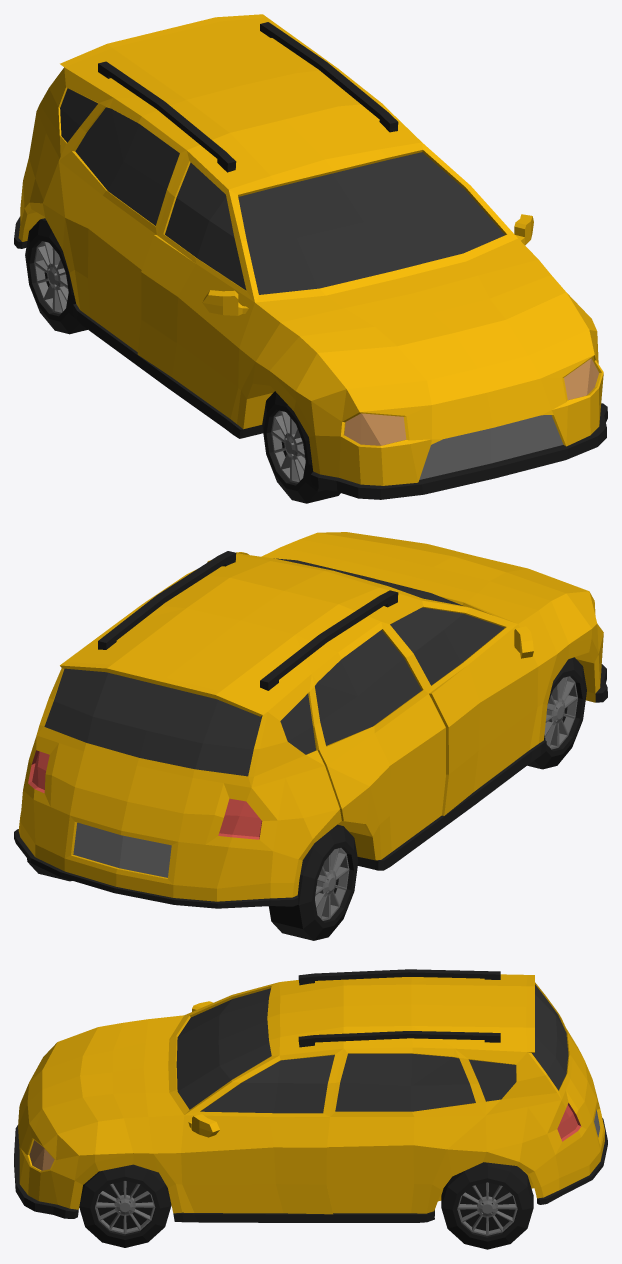
File: suv-amber.glb
3 views of the same model, one above another, from view 1: azimuth 30°, elevation 25°; view 2: azimuth 150°, elevation 25°; view 3: azimuth 270°, elevation 25° (orthographic). The views are drawn at different scales.
Visible parts, largest first — view 1: SUV_Cube; view 2: SUV_Cube; view 3: SUV_Cube.
Boxes of the visible parts, x1,y1,x2,y2 form: SUV_Cube: (14, 14, 607, 503); SUV_Cube: (14, 532, 607, 940); SUV_Cube: (14, 969, 607, 1249).
Size of the model in its own units: 2.11 by 1.53 by 4.21.
